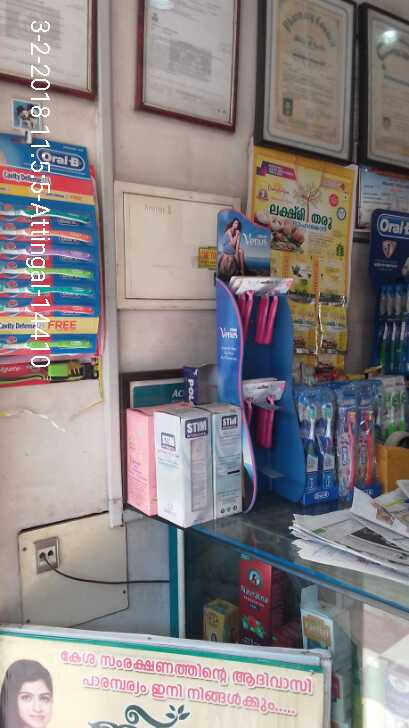oralb: (331, 386, 360, 498), (294, 385, 319, 504), (356, 389, 378, 491), (319, 387, 338, 497)
